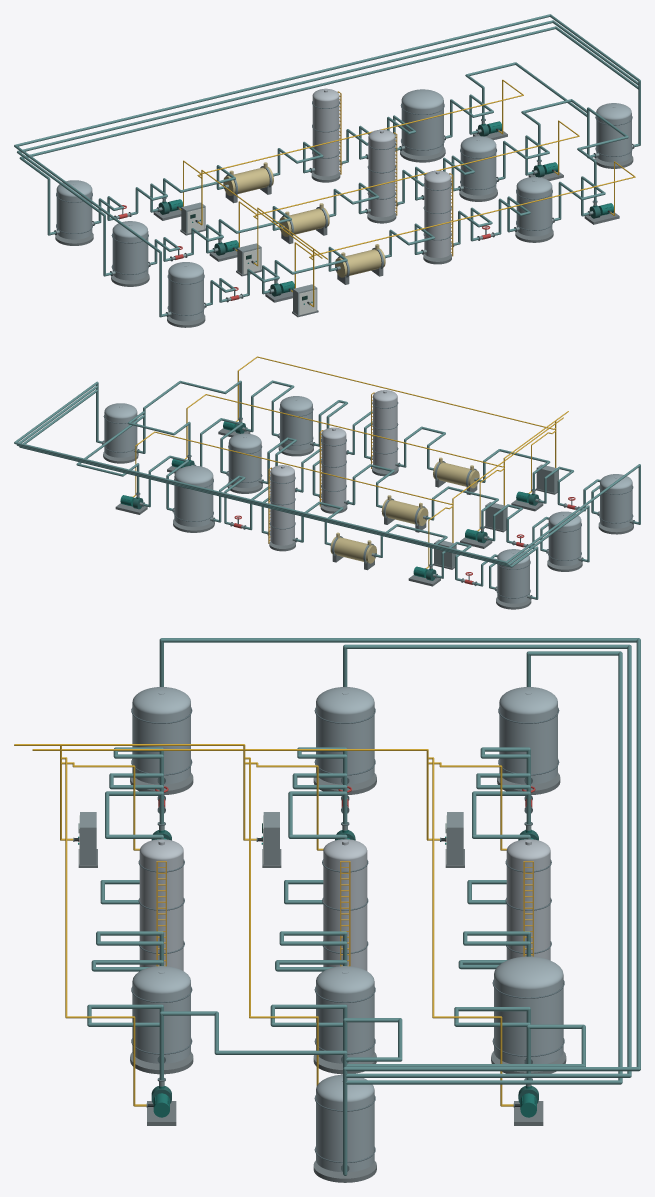
Rendered from process-plant-demo.glb.
The picture shows the model from 3 angles, top to bottom: view 1: azimuth 30°, elevation 25°; view 2: azimuth 150°, elevation 25°; view 3: azimuth 270°, elevation 25°; orthographic projection. The views are drawn at different scales.
Parts seen in each view (by area): view 1: LINE-031, TK-201, LINE-020, C-102, C-101, LINE-009, C-103, TK-103, TK-102, TK-202, TK-203, TK-101 (+20 smaller); view 2: LINE-031, TK-201, C-102, C-103, C-101, TK-103, TK-202, TK-203, TK-301, TK-102, LINE-020, TK-101 (+24 smaller); view 3: TK-201, LINE-031, TK-301, TK-203, TK-101, TK-102, C-102, TK-103, C-103, LINE-020, TK-202, C-101 (+22 smaller).
Part boxes in pixels (x1,y1,x2,y2): LINE-031: [14, 14, 640, 317]; TK-201: [399, 89, 445, 162]; LINE-020: [17, 20, 640, 276]; C-102: [365, 129, 398, 223]; C-101: [309, 88, 342, 182]; LINE-009: [19, 26, 640, 235]; C-103: [421, 170, 454, 264]; TK-103: [166, 262, 206, 327]; TK-102: [110, 221, 150, 286]; TK-202: [458, 136, 498, 201]; TK-203: [514, 177, 554, 242]; TK-101: [54, 180, 94, 245]; LINE-031: [14, 381, 640, 563]; TK-201: [172, 465, 215, 532]; C-102: [318, 427, 348, 513]; C-103: [370, 390, 400, 476]; C-101: [267, 465, 297, 551]; TK-103: [597, 474, 634, 534]; TK-202: [226, 433, 263, 493]; TK-203: [277, 396, 314, 456]; TK-301: [102, 403, 139, 463]; TK-102: [546, 511, 583, 571]; LINE-020: [17, 386, 589, 565]; TK-101: [495, 549, 532, 609]; TK-201: [491, 956, 566, 1073]; LINE-031: [159, 638, 640, 1174]; TK-301: [313, 1074, 376, 1182]; TK-203: [130, 966, 193, 1074]; TK-101: [497, 687, 560, 794]; TK-102: [313, 687, 376, 794]; C-102: [322, 839, 368, 970]; TK-103: [130, 687, 193, 794]; C-103: [138, 839, 184, 970]; LINE-020: [343, 644, 631, 1173]; TK-202: [313, 966, 376, 1074]; C-101: [505, 839, 551, 960].
Bounding box in the file's own units: 55.54 × 8.58 × 34.17.
